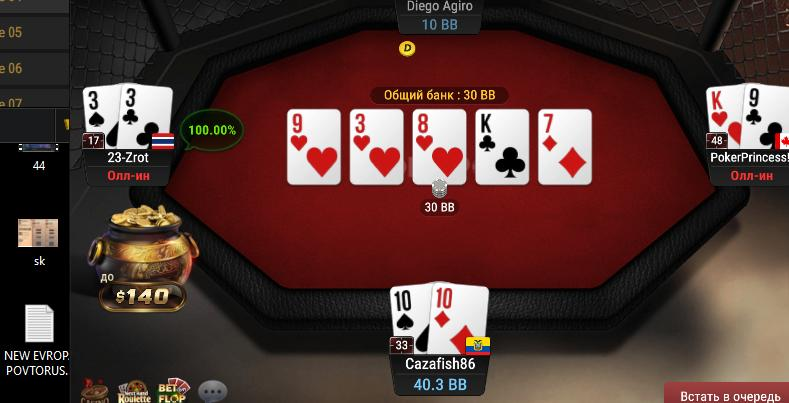10d: (431, 281, 486, 354)
10s: (387, 285, 430, 354)
3c: (119, 83, 173, 148)
3h: (351, 111, 403, 186)
3s: (83, 85, 120, 149)
7d: (538, 110, 592, 183)
8h: (413, 109, 466, 186)
9c: (743, 81, 788, 149)
9h: (287, 110, 341, 184)
Kc: (477, 110, 529, 184)
Kh: (705, 81, 742, 150)
